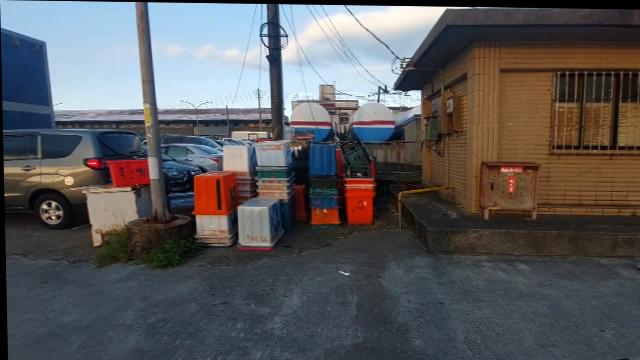pollute: (194, 134, 375, 250), (80, 186, 150, 247), (106, 158, 152, 187)
